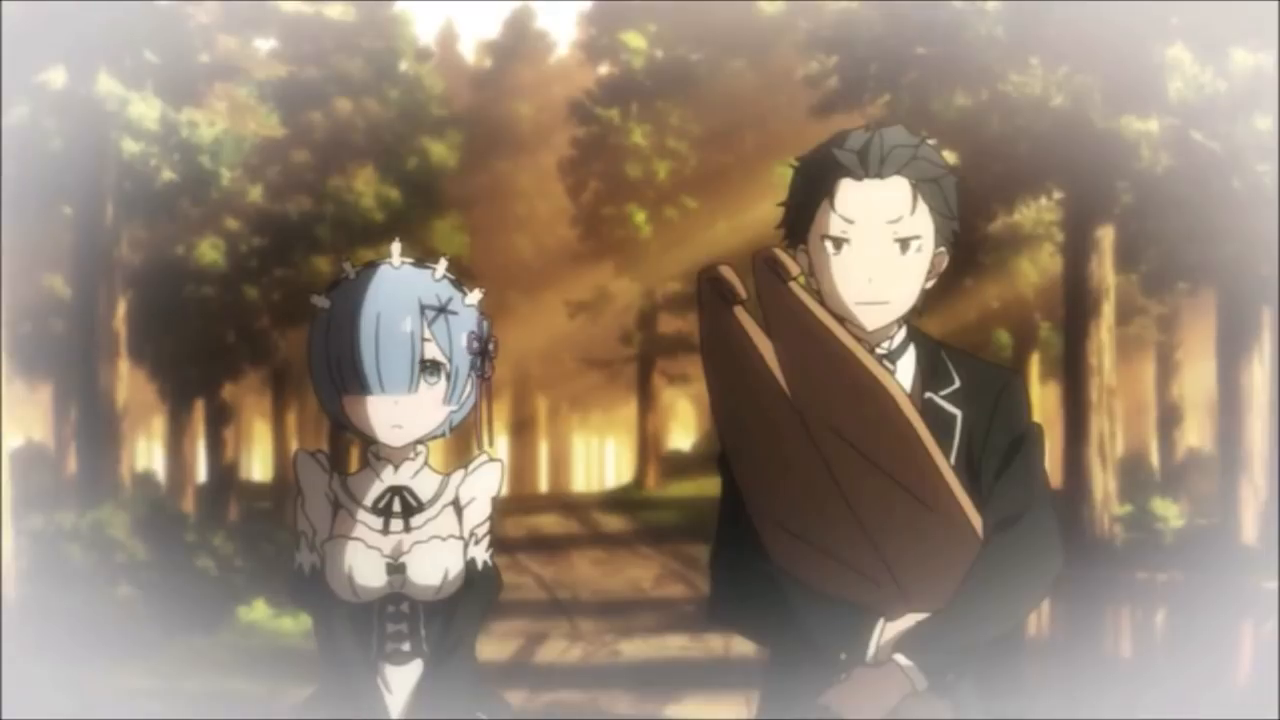REM: (302, 252, 495, 452)
